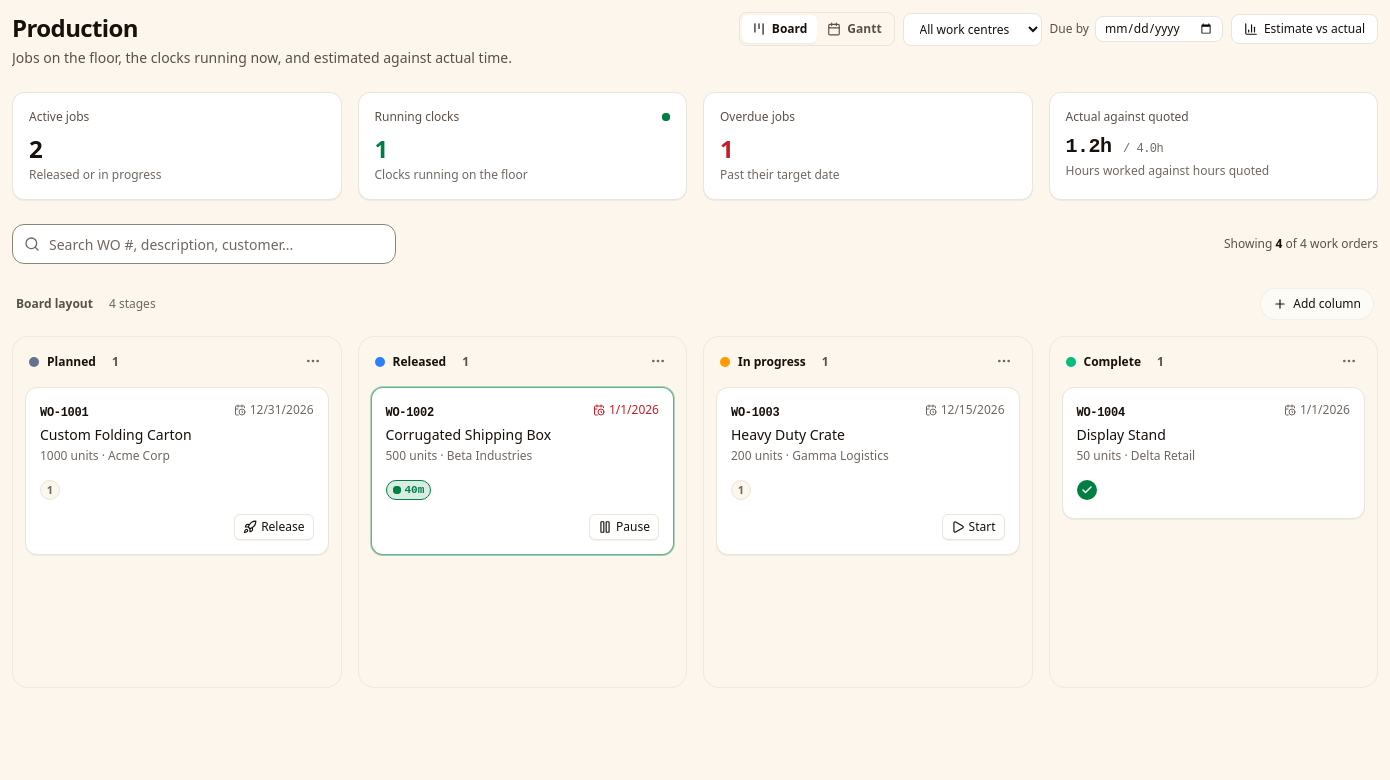
ProductionBoard › Search Filter Input › filters work orders by description
Type "Corrugated" into the field named "Search work orders".
click(204, 244); type("Corrugated")  # box [12,224,396,264]
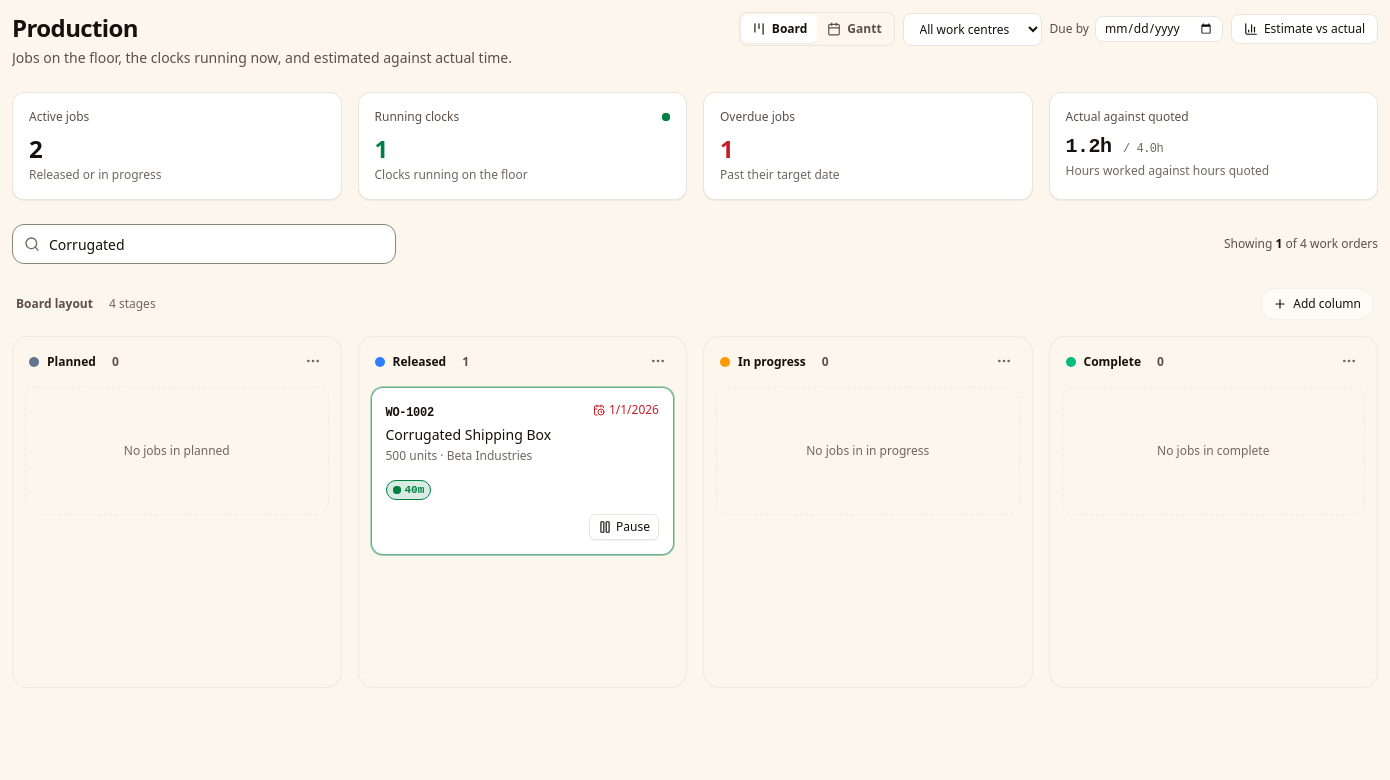
Expected: the text "WO-1002" is shown, [386,405,434,421]
Expected: the button "WO-1001" is gone
Expected: the button "WO-1003" is gone
